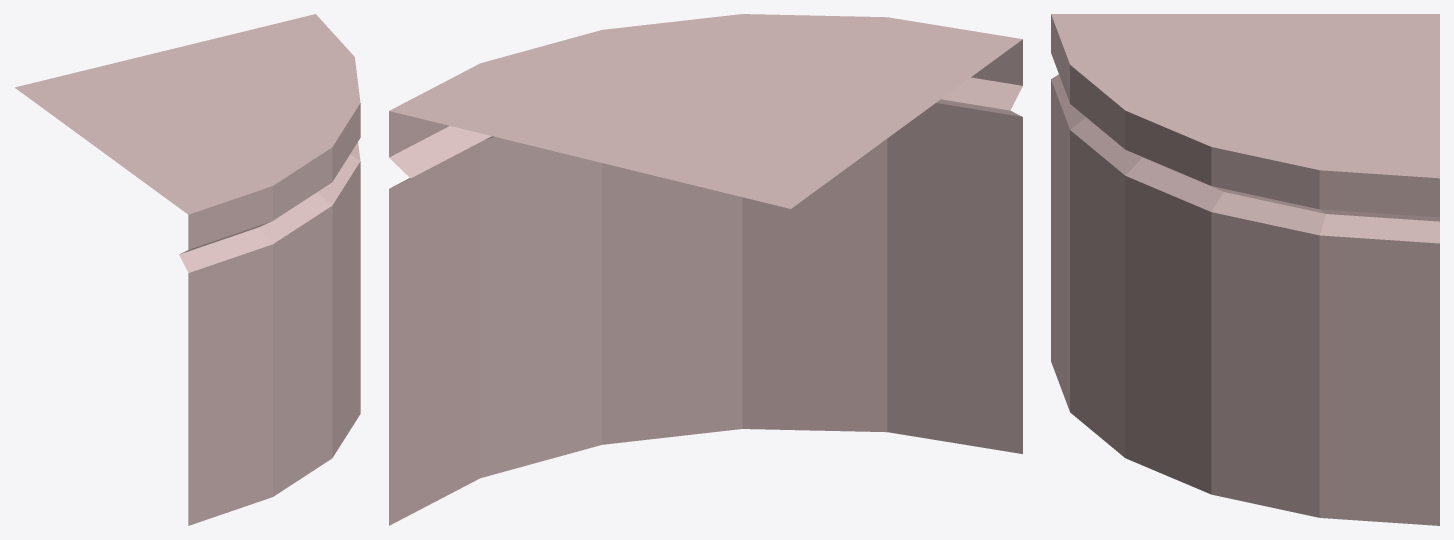
Rendered from castle_tower_big_endpiece.fbx.
The picture shows the model from 3 angles, left to right: view 1: azimuth 30°, elevation 25°; view 2: azimuth 150°, elevation 25°; view 3: azimuth 270°, elevation 25°; orthographic projection. The views are drawn at different scales.
Visible parts, largest first — view 1: castle_tower_big_endpiece; view 2: castle_tower_big_endpiece; view 3: castle_tower_big_endpiece.
Boxes of the visible parts, box(x1,y1,x2,y2) form: castle_tower_big_endpiece: box(15, 14, 360, 525); castle_tower_big_endpiece: box(389, 14, 1022, 525); castle_tower_big_endpiece: box(1051, 14, 1439, 525).
Size of the model in its own units: 16.22 by 16 by 16.22.
